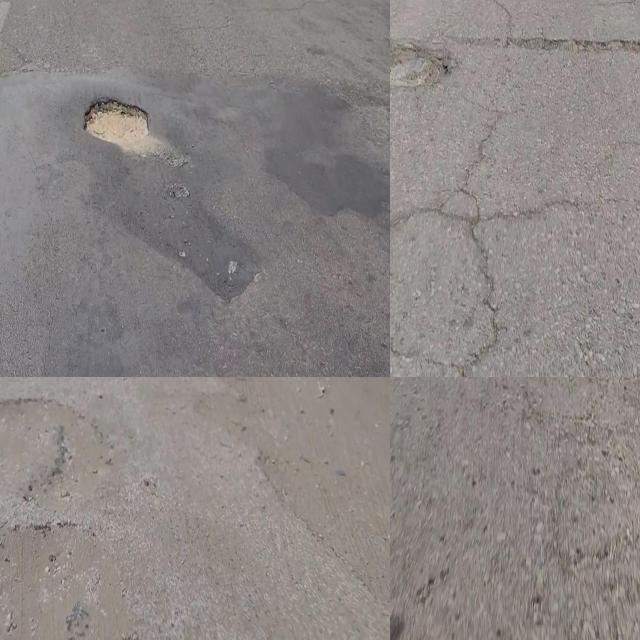Pothole: (0, 519, 144, 640), (0, 393, 118, 503), (82, 92, 151, 155), (390, 44, 447, 94)
